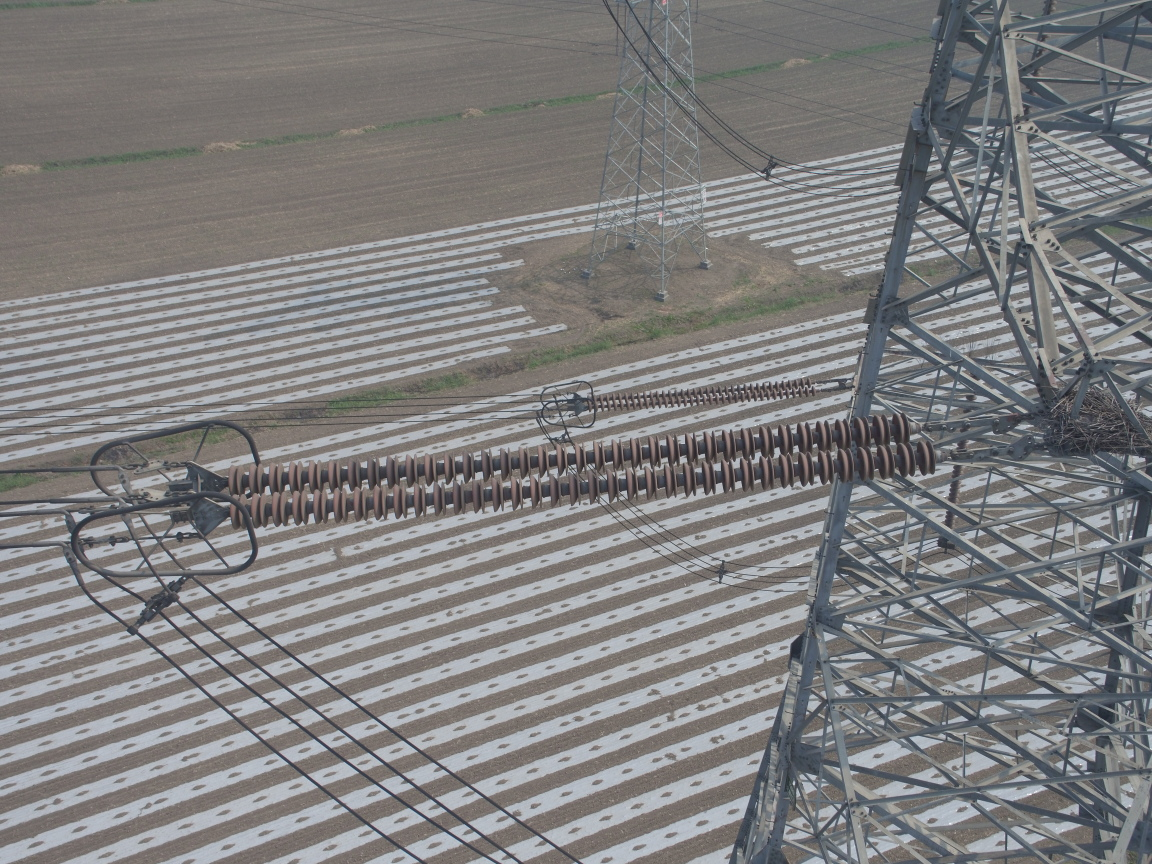insulator: (216, 410, 994, 531), (581, 374, 828, 410)
